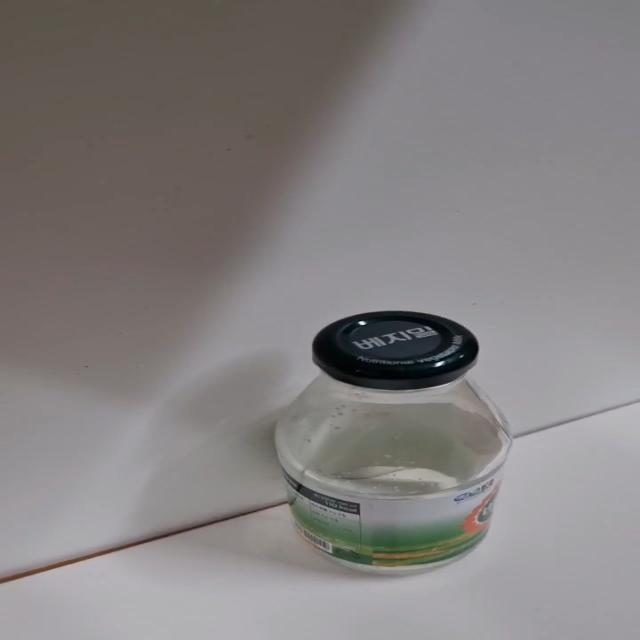Glass: (271, 306, 507, 578)
